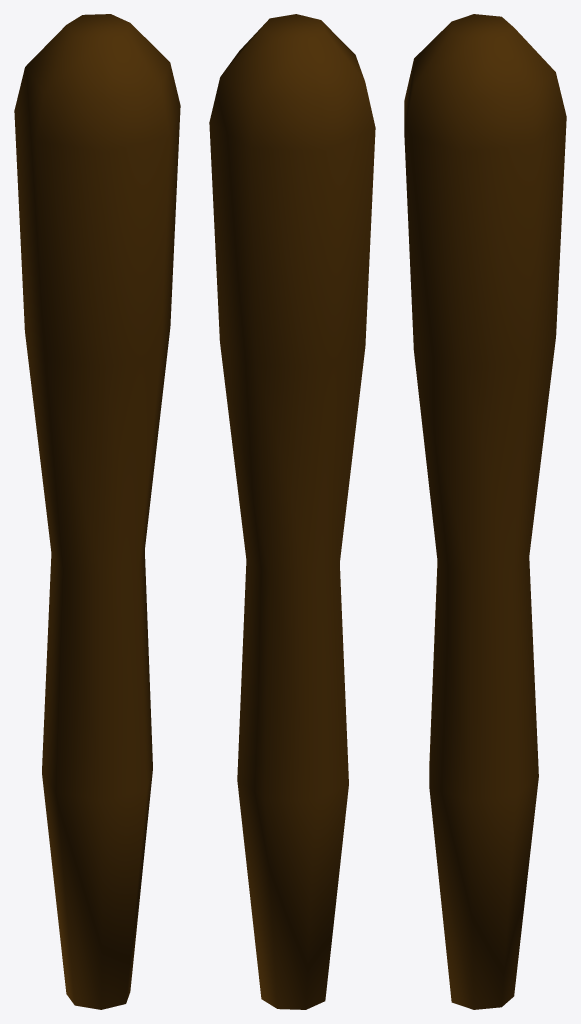
File: Club Model.fbx
The picture shows the model from 3 angles, left to right: view 1: azimuth 30°, elevation 25°; view 2: azimuth 150°, elevation 25°; view 3: azimuth 270°, elevation 25°; orthographic projection.
Parts seen in each view (by area): view 1: Cylinder; view 2: Cylinder; view 3: Cylinder.
Boxes of the visible parts, x1=… form: Cylinder: x1=14, y1=14, x2=180, y2=1009; Cylinder: x1=209, y1=14, x2=375, y2=1009; Cylinder: x1=404, y1=14, x2=566, y2=1009.
Bounding box in the file's own units: 71.29 × 457 × 69.5.
